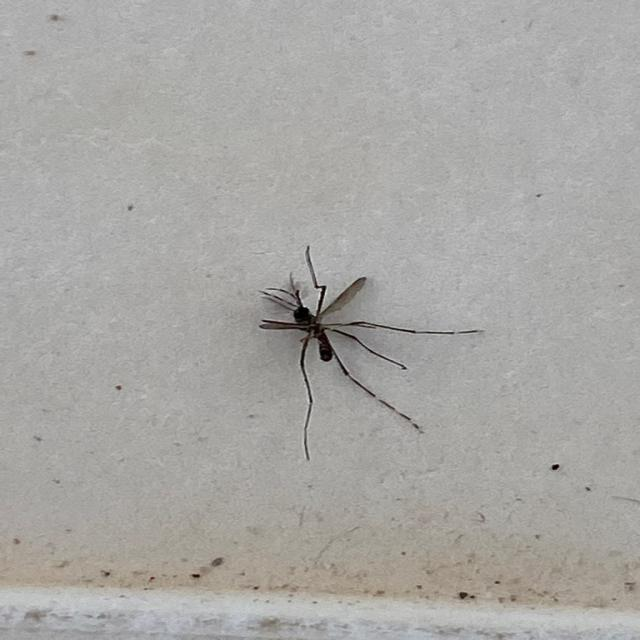albopictus: (252, 241, 476, 454)
